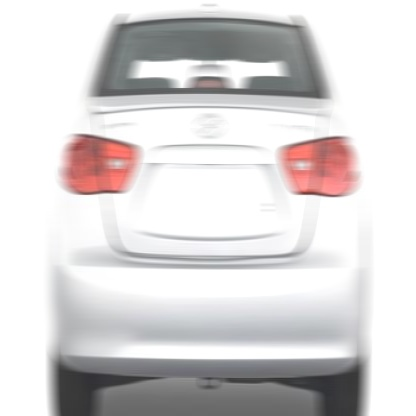Vehicle: (52, 3, 370, 414)
